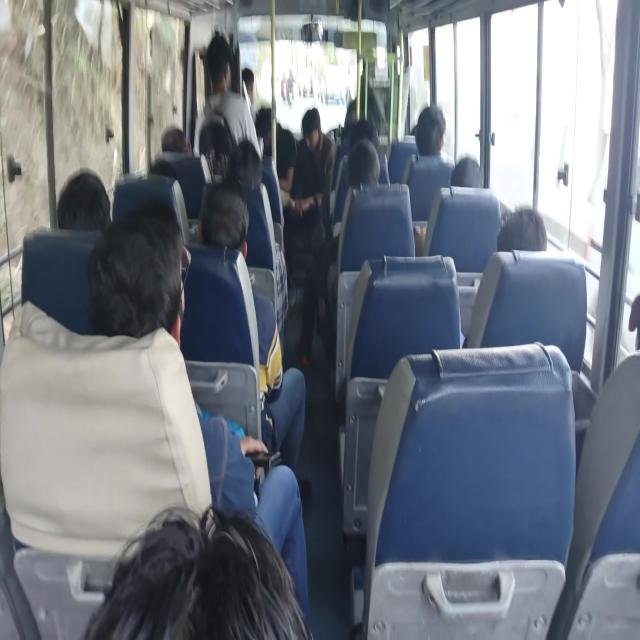person: (131, 467, 358, 640), (98, 206, 202, 396), (48, 156, 104, 236), (499, 202, 556, 274), (201, 188, 248, 256), (225, 136, 270, 203), (255, 123, 292, 199), (158, 125, 195, 189), (625, 282, 640, 425), (204, 35, 236, 92), (418, 112, 448, 168), (352, 147, 378, 199), (457, 155, 483, 203), (399, 108, 431, 144), (238, 54, 259, 102), (147, 152, 176, 186), (352, 119, 377, 150), (304, 120, 325, 154)
